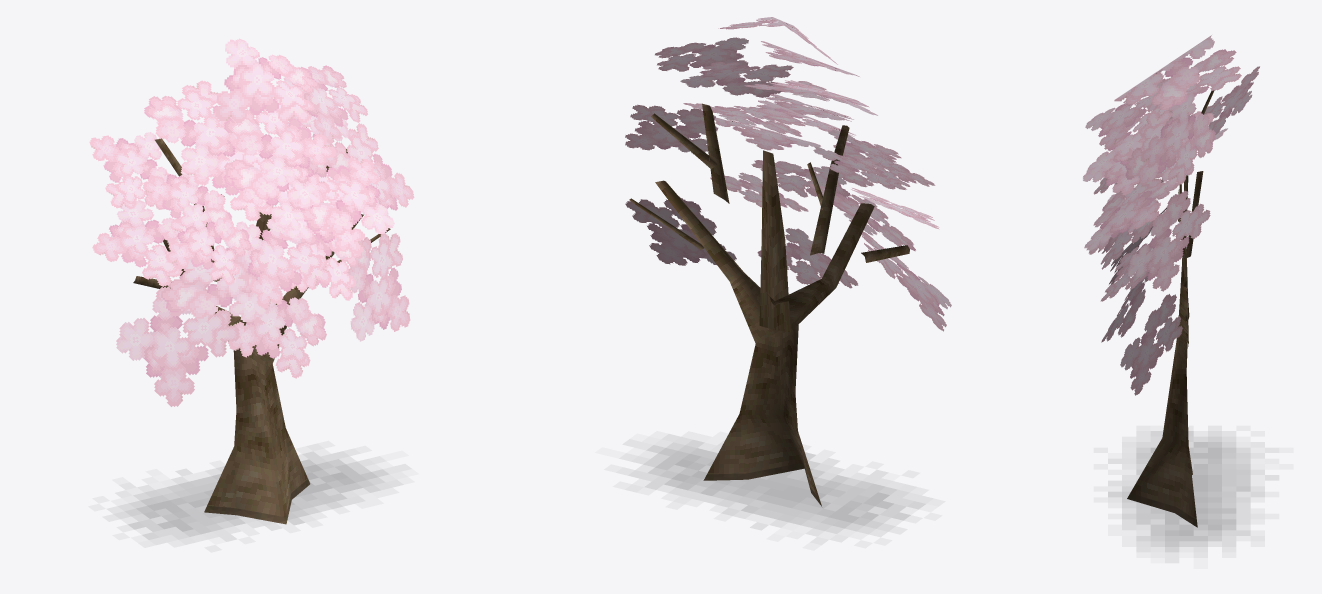
Rendered from Japanese Tree 1.obj.
3 renders of one model, left to right at view 1: azimuth 30°, elevation 25°; view 2: azimuth 150°, elevation 25°; view 3: azimuth 270°, elevation 25°, orthographic. The views are drawn at different scales.
Visible parts, largest first — view 1: polygon1.057, polygon2.036, polygon0.057; view 2: polygon1.057, polygon2.036, polygon0.057; view 3: polygon1.057, polygon0.057, polygon2.036.
Boxes of the visible parts, box(x1,y1,x2,y2) form: polygon1.057: box(89, 38, 414, 406); polygon2.036: box(133, 127, 390, 524); polygon0.057: box(125, 459, 387, 536); polygon1.057: box(625, 17, 951, 331); polygon2.036: box(629, 103, 909, 506); polygon0.057: box(644, 445, 909, 530); polygon1.057: box(1083, 35, 1259, 395); polygon0.057: box(1108, 431, 1250, 551); polygon2.036: box(1127, 90, 1214, 527).
Size of the model in its own units: 8.98 by 11.23 by 5.46.
3 materials, 3 textured.
